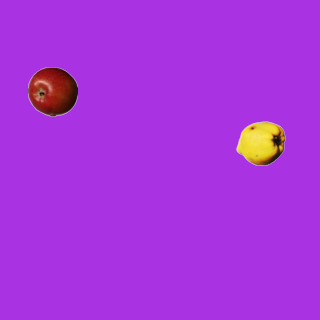Apple Braeburn: (27, 66, 77, 116)
Quince: (235, 118, 285, 168)
